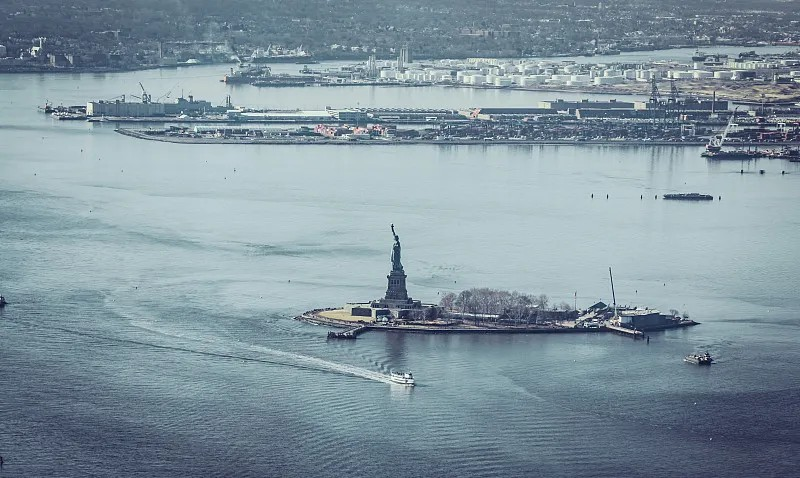SL: (384, 222, 409, 300)
